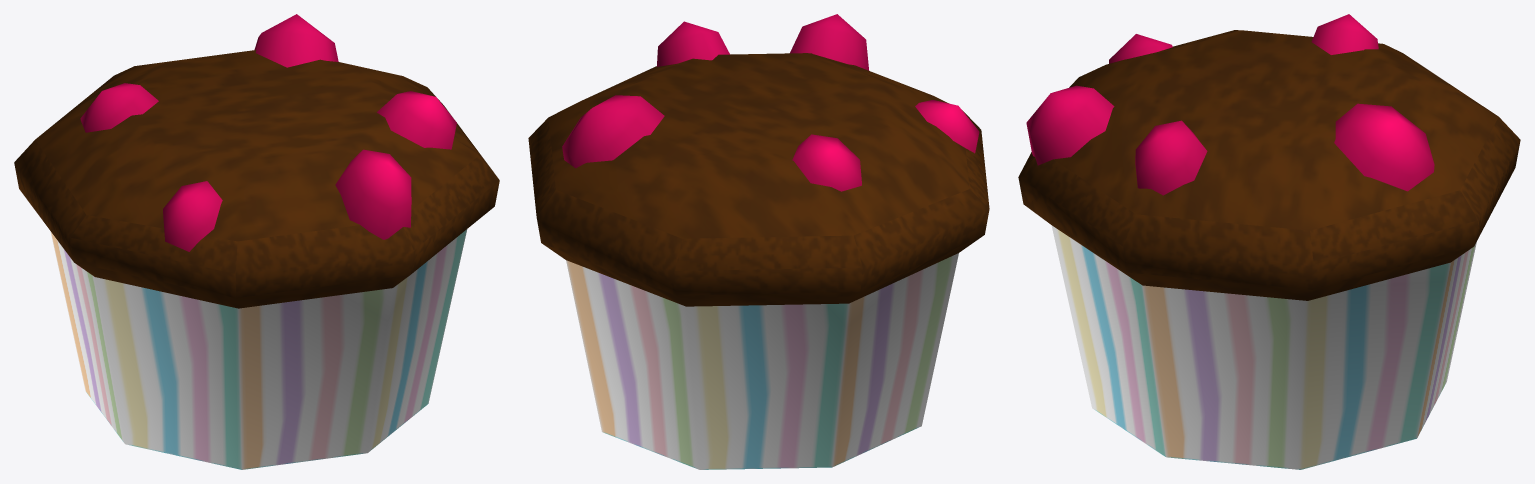
Rendered from Muffin_D_03.FBX.
3 renders of one model, left to right at view 1: azimuth 30°, elevation 25°; view 2: azimuth 150°, elevation 25°; view 3: azimuth 270°, elevation 25°, orthographic. The views are drawn at different scales.
Parts seen in each view (by area): view 1: Muffin; view 2: Muffin; view 3: Muffin.
Boxes of the visible parts, <box> form: Muffin: <box>14,14,499,469</box>; Muffin: <box>528,14,989,469</box>; Muffin: <box>1018,14,1520,469</box>.
Bounding box in the file's own units: 36.61 × 26.52 × 36.61.
